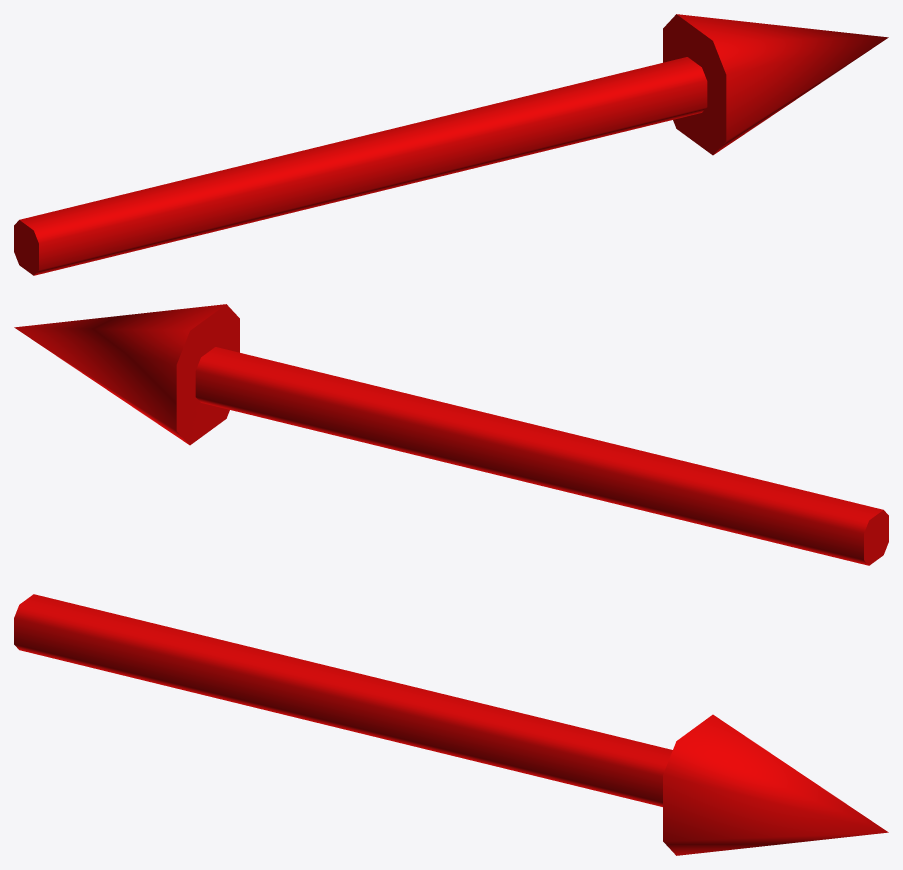
File: Move_X.fbx
The picture shows the model from 3 angles, top to bottom: view 1: azimuth 30°, elevation 25°; view 2: azimuth 150°, elevation 25°; view 3: azimuth 330°, elevation 25°; orthographic projection.
Visible parts, largest first — view 1: Move_X; view 2: Move_X; view 3: Move_X.
Boxes of the visible parts, <box> form: Move_X: <box>14,14,888,275</box>; Move_X: <box>14,304,888,565</box>; Move_X: <box>14,594,888,855</box>.
Bounding box in the file's own units: 0.5423 × 0.0689 × 0.0689.
